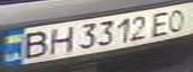1: (112, 16, 136, 44)
2: (127, 11, 154, 42)
3: (75, 20, 100, 51), (97, 17, 118, 47)
B: (15, 28, 54, 61)
E: (148, 8, 178, 37)
H: (42, 24, 75, 55)
O: (163, 6, 193, 33)
